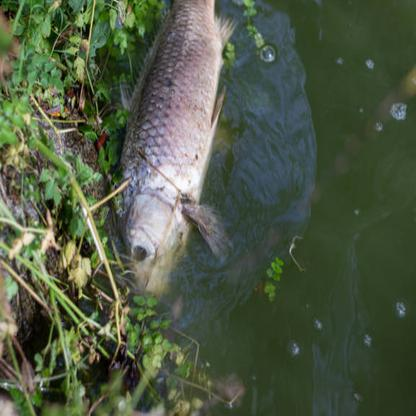deceased fish: (114, 2, 237, 311)
